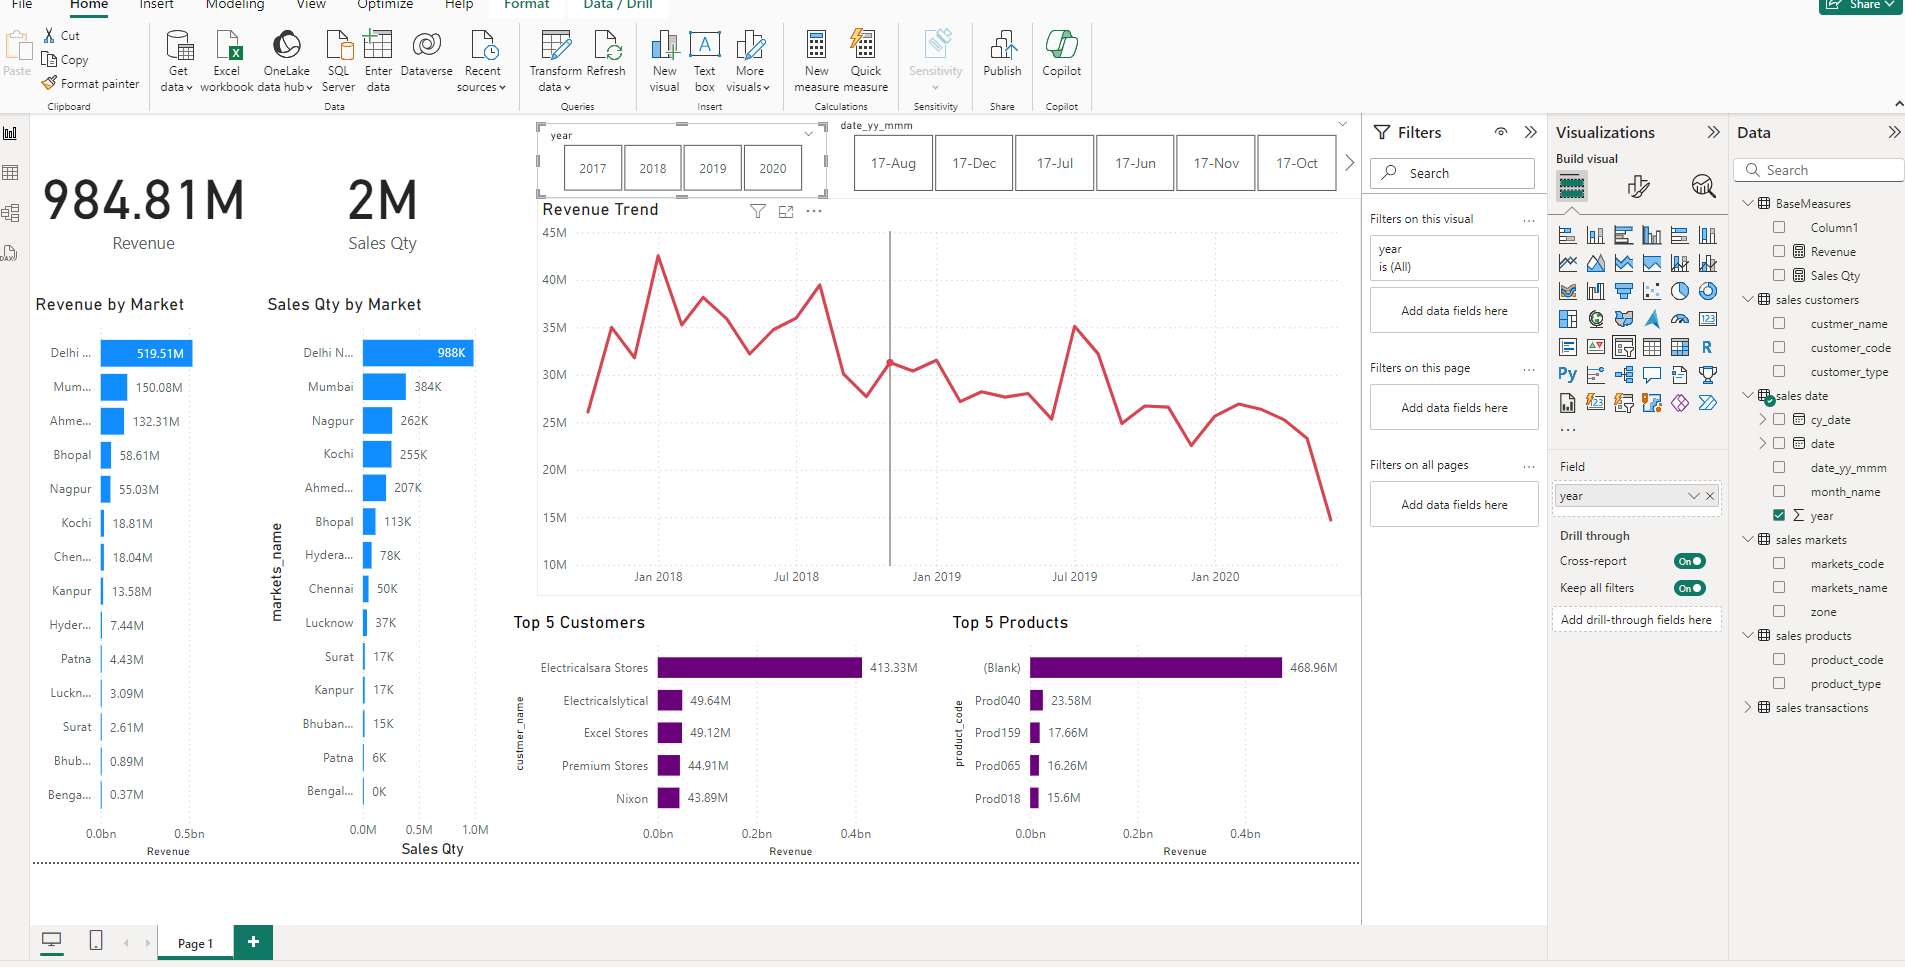

The page's visual inventory and layout, read from the dashboard file:
{"tool":"powerbi","page":{"name":"Page 1","canvas":[1280,720],"ordinal":0},"visuals":[{"type":"card","fields":{"Values":["BaseMeasures.Revenue"]},"box":[0,0,218.3,173.1],"z":0},{"type":"barChart","title":"Revenue by Market","fields":{"Y":["BaseMeasures.Revenue"],"Category":["sales markets.markets_name"]},"box":[0,173.1,218.3,547.2],"z":1001},{"type":"barChart","title":"Sales Qty by Market","fields":{"Y":["BaseMeasures.Sales Qty"],"Category":["sales markets.markets_name"]},"box":[223.1,173.1,250,547.2],"z":1002},{"type":"card","fields":{"Values":["BaseMeasures.Sales Qty"]},"box":[218.3,0,241.4,172.1],"z":1004},{"type":"slicer","fields":{"Values":["sales date.date_yy_mmm"]},"box":[860.7,9.6,410.6,62.5],"z":1005},{"type":"slicer","fields":{"Values":["sales date.year"]},"box":[545.3,9.6,278.9,72.1],"z":1006},{"type":"barChart","title":"Top 5 Customers","fields":{"Y":["BaseMeasures.Revenue"],"Category":["sales customers.custmer_name"]},"box":[459.7,478.9,420.3,241.4],"z":1007},{"type":"barChart","title":"Top 5 Products","fields":{"Y":["BaseMeasures.Revenue"],"Category":["sales products.product_code"]},"box":[881.9,478.9,398.1,241.4],"z":1008},{"type":"lineChart","title":"Revenue Trend","fields":{"Y":["BaseMeasures.Revenue"],"Category":["sales date.cy_date"]},"box":[487.6,81.7,792.4,382.7],"z":1009}]}

Visuals, with their boxes on the page's 1280x720 design canvas (x1, y1, x2, y2). These are canvas units, not pixel positions in the 1905x967 screenshot, which may show the page scaled, cropped or inside an application window:
card - BaseMeasures.Revenue: bbox(0, 0, 218, 173)
"Revenue by Market" barChart: bbox(0, 173, 218, 720)
"Sales Qty by Market" barChart: bbox(223, 173, 473, 720)
card - BaseMeasures.Sales Qty: bbox(218, 0, 460, 172)
slicer - sales date.date_yy_mmm: bbox(861, 10, 1271, 72)
slicer - sales date.year: bbox(545, 10, 824, 82)
"Top 5 Customers" barChart: bbox(460, 479, 880, 720)
"Top 5 Products" barChart: bbox(882, 479, 1280, 720)
"Revenue Trend" lineChart: bbox(488, 82, 1280, 464)
